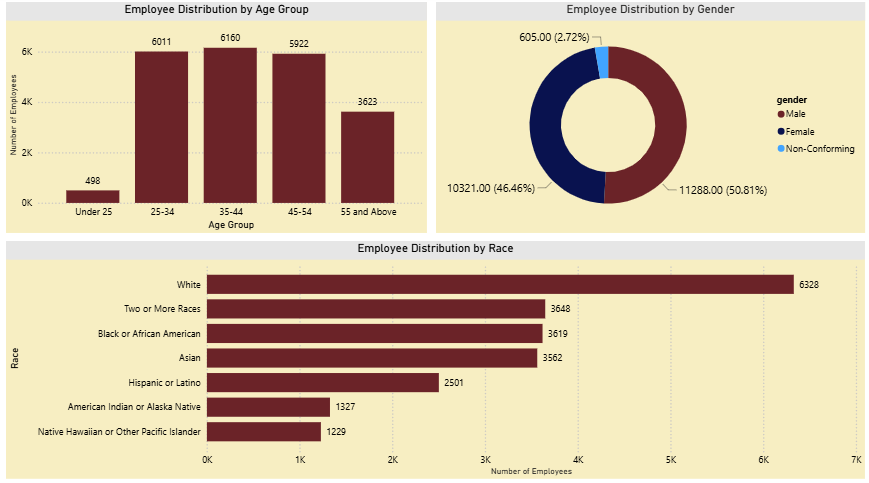

The dashboard page shown, as its layout file describes it:
{"tool":"powerbi","page":{"name":"Employee Demographics","canvas":[1280,720],"ordinal":1},"visuals":[{"type":"clusteredColumnChart","title":"Employee Distribution by Age Group","fields":{"Y":["CountNonNull(HR.id)"],"Category":["HR.Age Group"]},"box":[10.2,10.2,616.1,338],"z":0},{"type":"donutChart","title":"Employee Distribution by Gender","fields":{"Y":["CountNonNull(HR.id)"],"Category":["HR.gender"]},"box":[639.5,10.2,627.8,338],"z":1},{"type":"clusteredBarChart","title":"Employee Distribution by Race","fields":{"Y":["CountNonNull(HR.id)"],"Category":["HR.race"]},"box":[10.2,360,616.1,348.3],"z":2}]}

Visuals, with their boxes in screenshot pixels (x1, y1, x2, y2), scaled from the page's 1280x720 canvas onto the 869x483 screenshot:
"Employee Distribution by Age Group" clusteredColumnChart: {"left": 7, "top": 7, "right": 425, "bottom": 234}
"Employee Distribution by Gender" donutChart: {"left": 434, "top": 7, "right": 860, "bottom": 234}
"Employee Distribution by Race" clusteredBarChart: {"left": 7, "top": 241, "right": 425, "bottom": 475}
